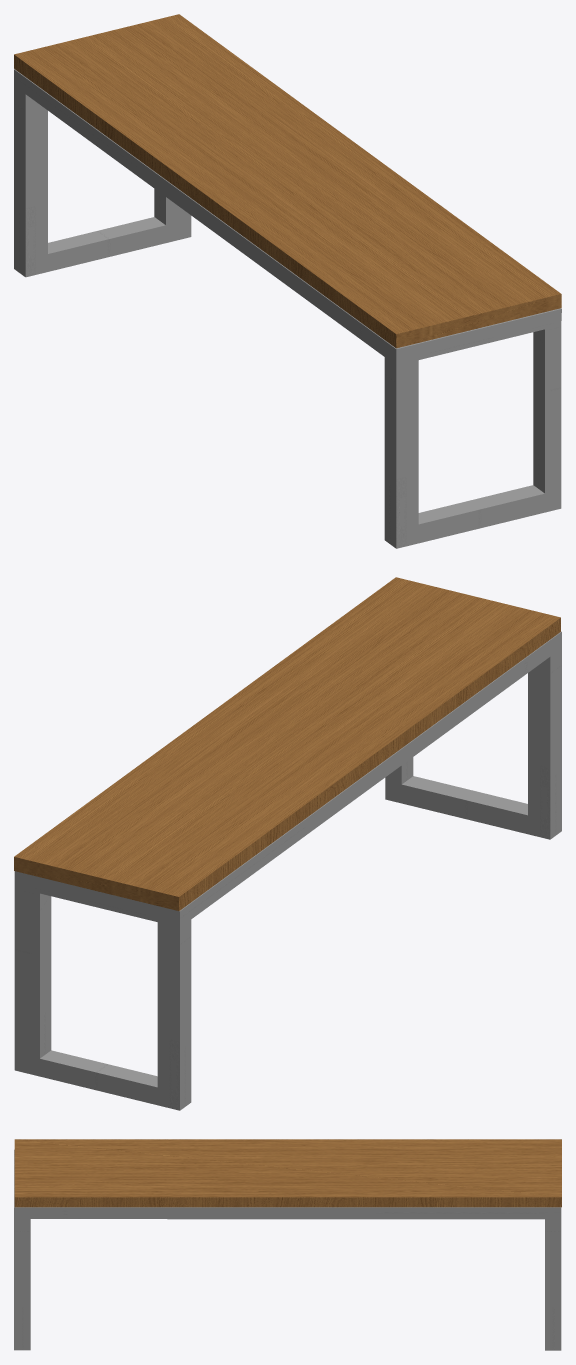
The model's file is MesaUno.obj.
3 views of the same model, one above another, from view 1: azimuth 30°, elevation 25°; view 2: azimuth 150°, elevation 25°; view 3: azimuth 270°, elevation 25° (orthographic). The views are drawn at different scales.
Visible parts, largest first — view 1: pasted__pasted__pasted__pasted__polySurface2689; view 2: pasted__pasted__pasted__pasted__polySurface2689; view 3: pasted__pasted__pasted__pasted__polySurface2689.
Boxes of the visible parts, bbox=[...] form: pasted__pasted__pasted__pasted__polySurface2689: bbox=[14, 14, 561, 548]; pasted__pasted__pasted__pasted__polySurface2689: bbox=[14, 577, 561, 1110]; pasted__pasted__pasted__pasted__polySurface2689: bbox=[14, 1139, 561, 1350].
Bounding box in the file's own units: 1.22 × 1.51 × 4.89.
Materials: 2 (2 with a texture image).
